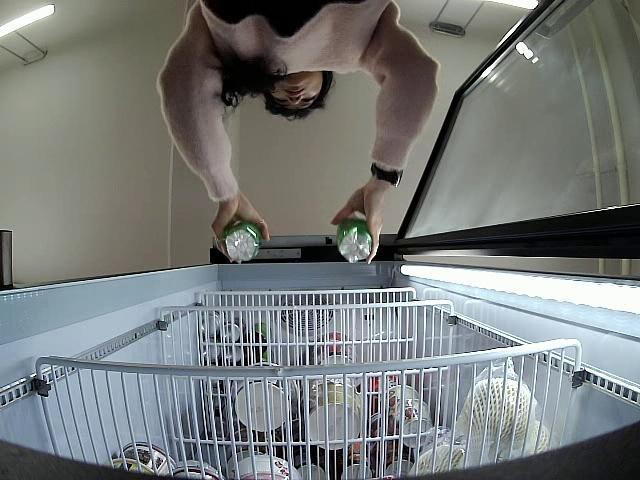18_trevi: (334, 214, 375, 266), (220, 222, 262, 264)
